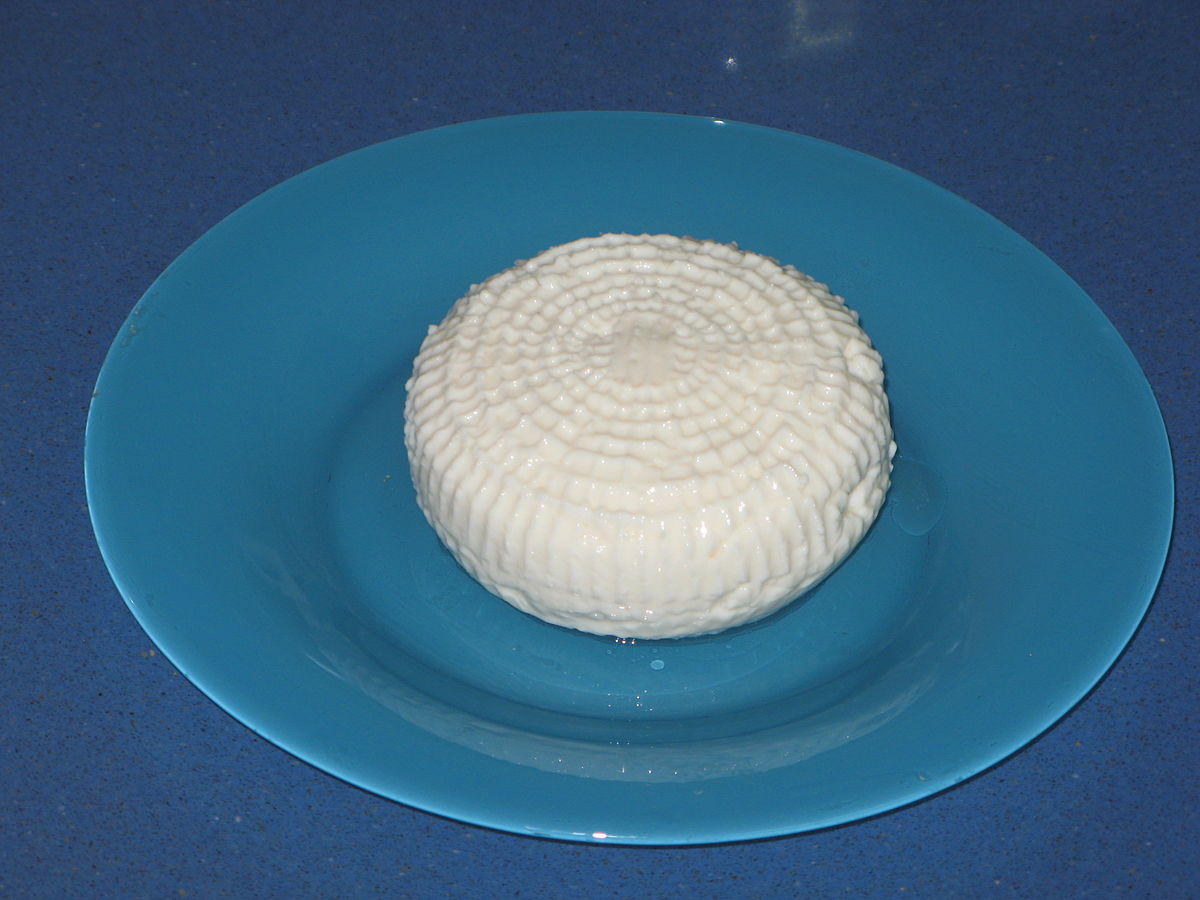cheese: (421, 217, 939, 673)
